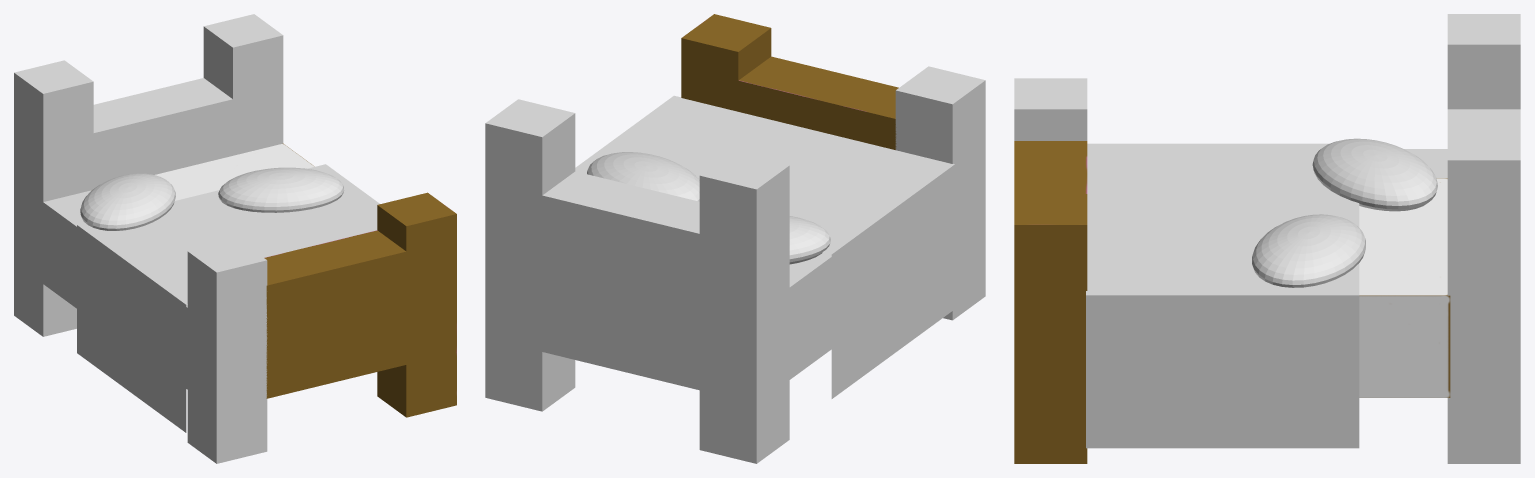
The model's file is bed.fbx.
3 renders of one model, left to right at view 1: azimuth 30°, elevation 25°; view 2: azimuth 150°, elevation 25°; view 3: azimuth 270°, elevation 25°, orthographic. The views are drawn at different scales.
Parts seen in each view (by area): view 1: Cube, Plane, Cube.002, Cube.003, Cube.001, Sphere, Sphere.001; view 2: Cube.003, Plane, Cube.001, Cube.002, Cube, Sphere, Sphere.001; view 3: Plane, Cube, Cube.003, Cube.001, Sphere.001, Sphere, Cube.002.
Part boxes in pixels (left/top/right/bottom): Cube: left=155, top=143, right=456, bottom=417; Plane: left=77, top=164, right=379, bottom=432; Cube.002: left=42, top=190, right=267, bottom=463; Cube.003: left=93, top=14, right=283, bottom=188; Cube.001: left=14, top=60, right=93, bottom=336; Sphere: left=218, top=167, right=344, bottom=212; Sphere.001: left=80, top=173, right=175, bottom=230; Cube.003: left=485, top=99, right=700, bottom=411; Plane: left=575, top=95, right=954, bottom=398; Cube.001: left=699, top=151, right=789, bottom=463; Cube.002: left=788, top=66, right=985, bottom=379; Cube: left=681, top=14, right=898, bottom=149; Sphere: left=587, top=152, right=699, bottom=201; Sphere.001: left=789, top=216, right=830, bottom=264; Plane: left=1086, top=143, right=1359, bottom=448; Cube: left=1014, top=141, right=1450, bottom=463; Cube.003: left=1447, top=109, right=1520, bottom=463; Cube.001: left=1447, top=14, right=1520, bottom=109; Sphere.001: left=1312, top=138, right=1437, bottom=211; Sphere: left=1252, top=214, right=1365, bottom=287; Cube.002: left=1014, top=78, right=1447, bottom=178.
Size of the model in its own units: 985 by 919 by 1390.
